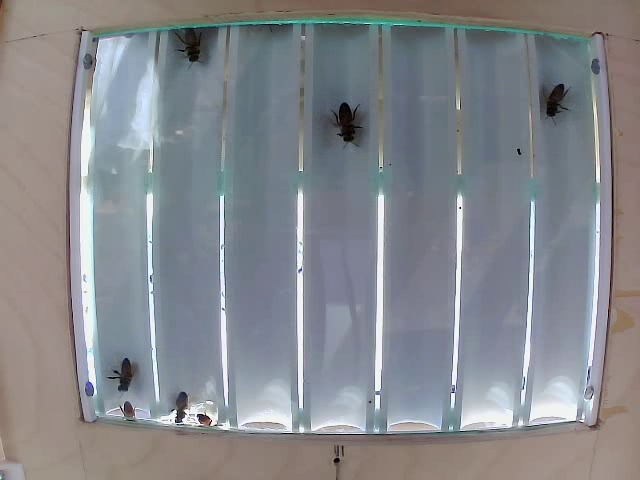bee: (319, 93, 356, 145), (189, 28, 222, 71), (542, 76, 571, 121), (163, 380, 194, 413), (107, 351, 133, 383)
